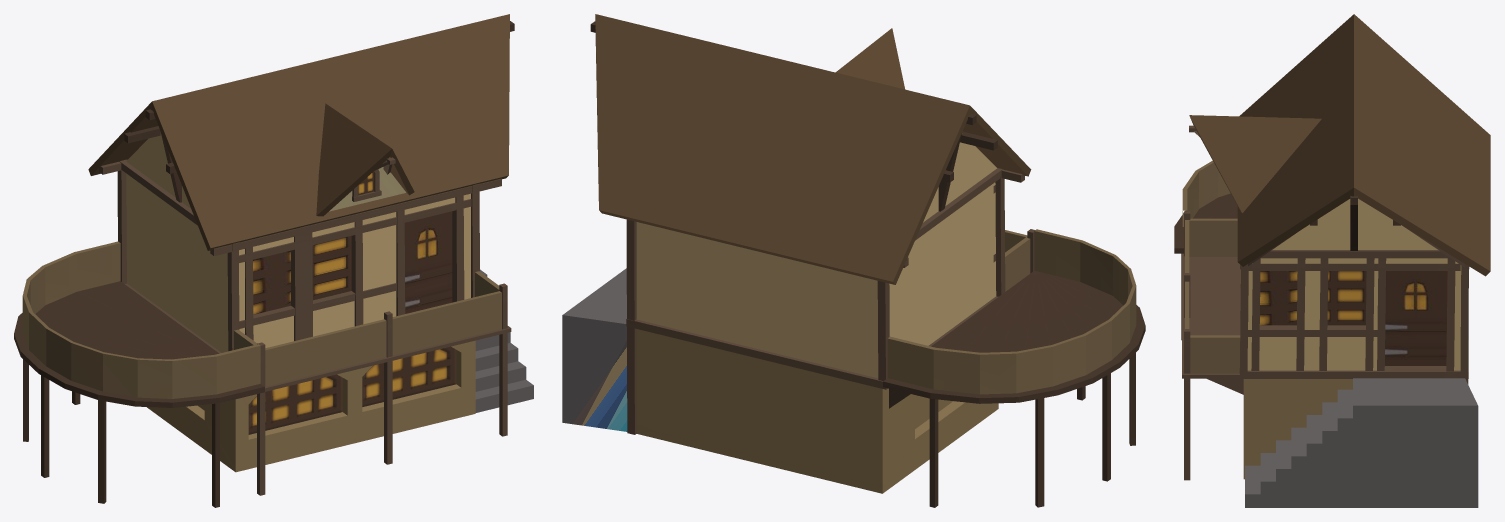
Rendered from castle_town_house03.glb.
The picture shows the model from 3 angles, left to right: view 1: azimuth 30°, elevation 25°; view 2: azimuth 150°, elevation 25°; view 3: azimuth 270°, elevation 25°; orthographic projection. The views are drawn at different scales.
Visible parts, largest first — view 1: house03; view 2: house03; view 3: house03.
Boxes of the visible parts, box(x1,y1,x2,y2) form: house03: box(14, 14, 533, 507); house03: box(562, 14, 1145, 507); house03: box(1174, 14, 1490, 507).
Bounding box in the file's own units: 11.51 × 7.59 × 6.49.
Materials: 1 (1 with a texture image).
